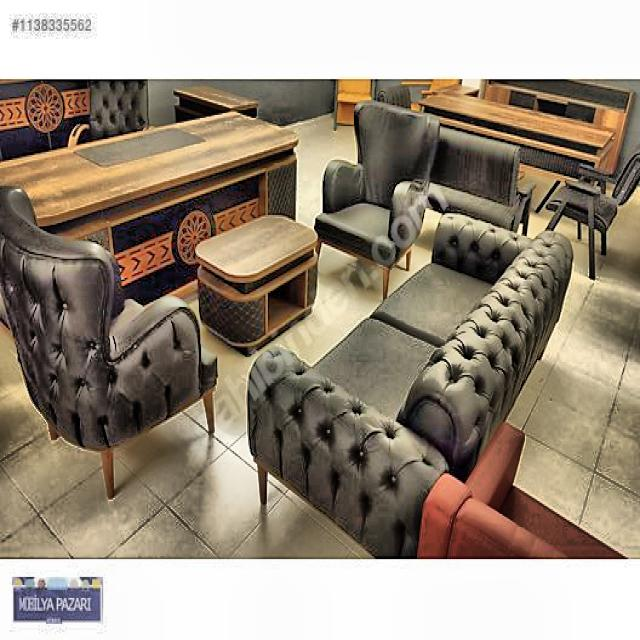sofa: (246, 210, 573, 558), (0, 182, 218, 498), (313, 99, 440, 299)
